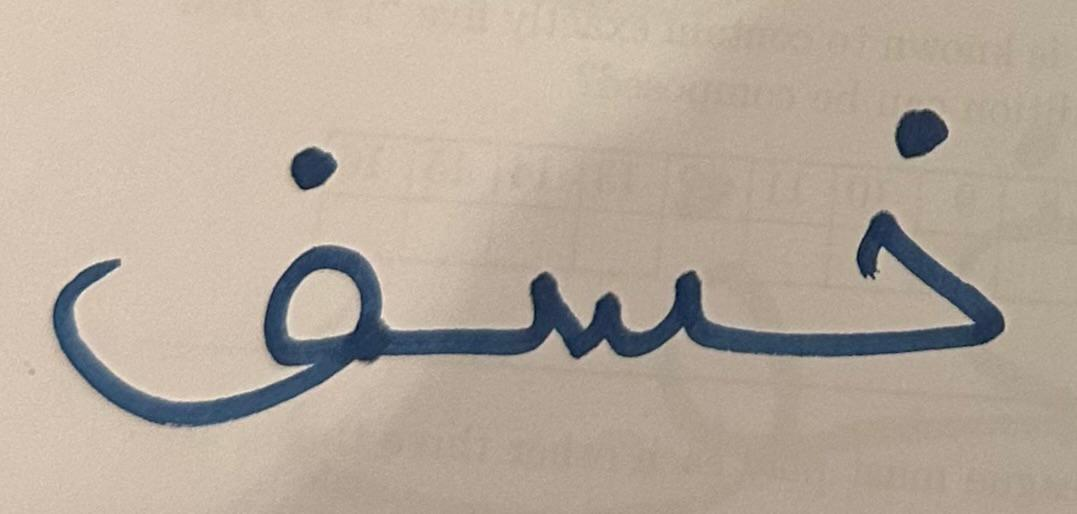feh: (18, 77, 407, 484)
lam: (734, 51, 1049, 473)
sheen: (412, 72, 729, 473)
